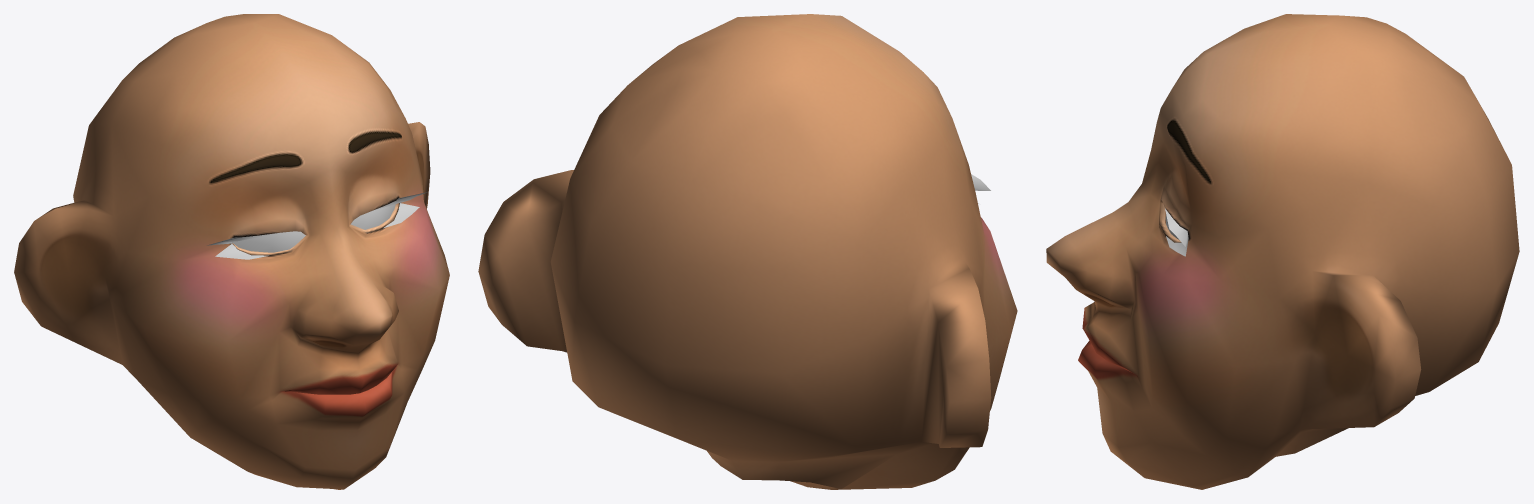
The model's file is F_pose12.fbx.
3 renders of one model, left to right at view 1: azimuth 30°, elevation 25°; view 2: azimuth 150°, elevation 25°; view 3: azimuth 270°, elevation 25°, orthographic. The views are drawn at different scales.
Parts seen in each view (by area): view 1: HEAD; view 2: HEAD; view 3: HEAD.
Part boxes in pixels (x1=…): HEAD: x1=14, y1=14, x2=449, y2=489; HEAD: x1=478, y1=14, x2=1017, y2=489; HEAD: x1=1046, y1=14, x2=1519, y2=489.
Bounding box in the file's own units: 27.45 × 25.51 × 24.63.
